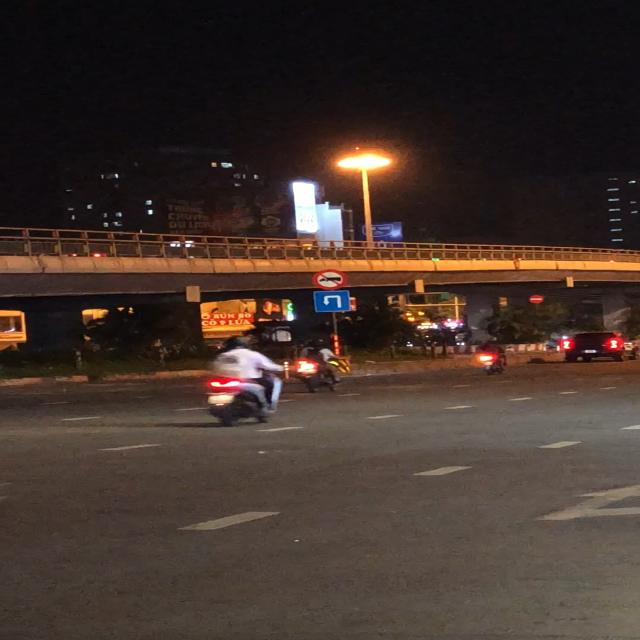Bien bao cam xe so-mi ro-mooc: (311, 269, 347, 291)
